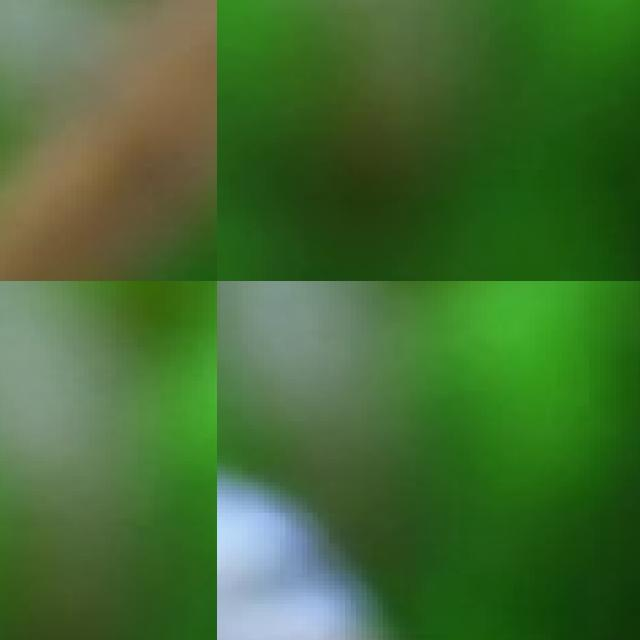fish: (0, 0, 217, 281)
